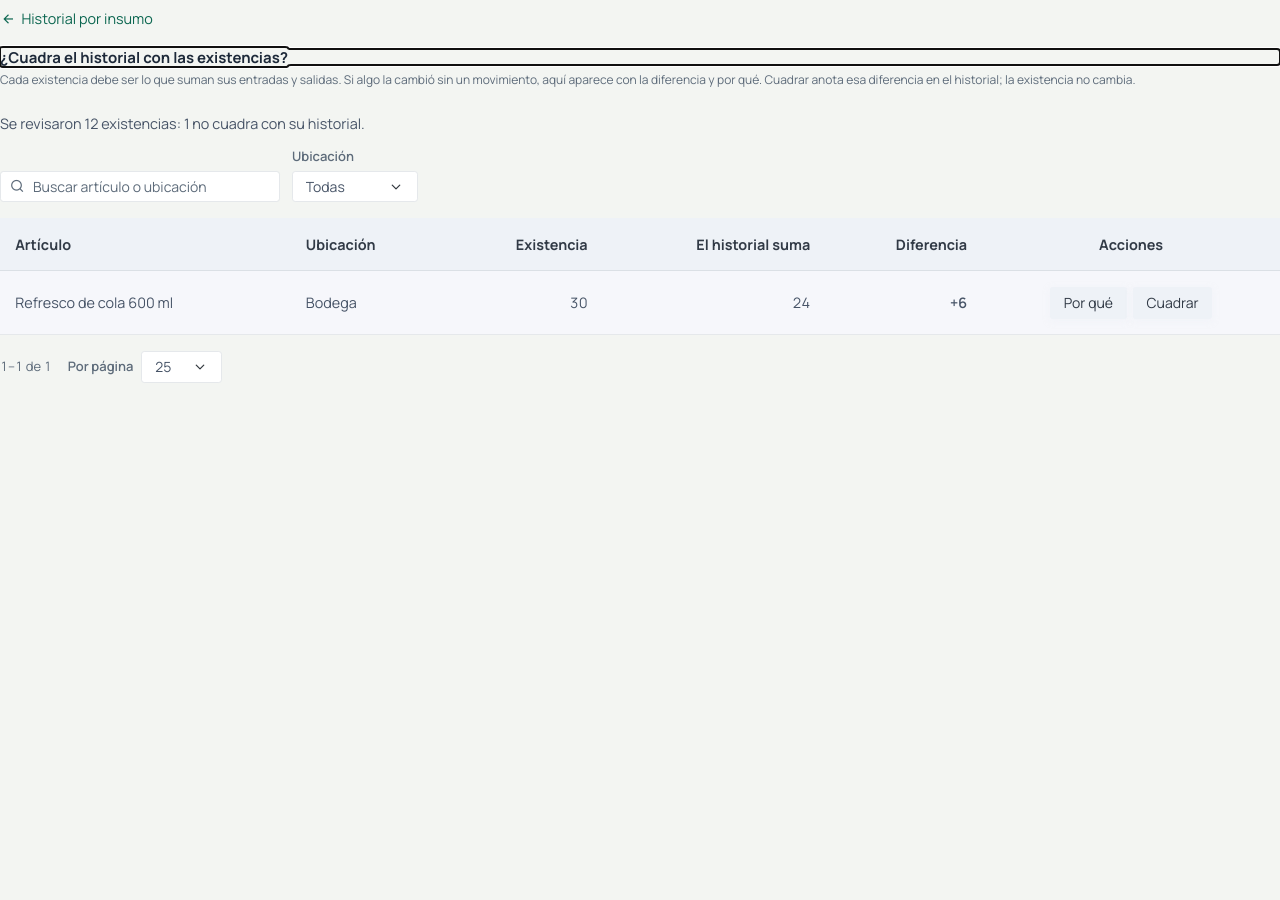
Test: LedgerReview › explains where a stock stops adding up, and says when what does not add up changed
Click the button with aria-label "Por qué no cuadra Refresco de cola 600 ml en Bodega" at (1088, 303), box [1050,287,1127,319]
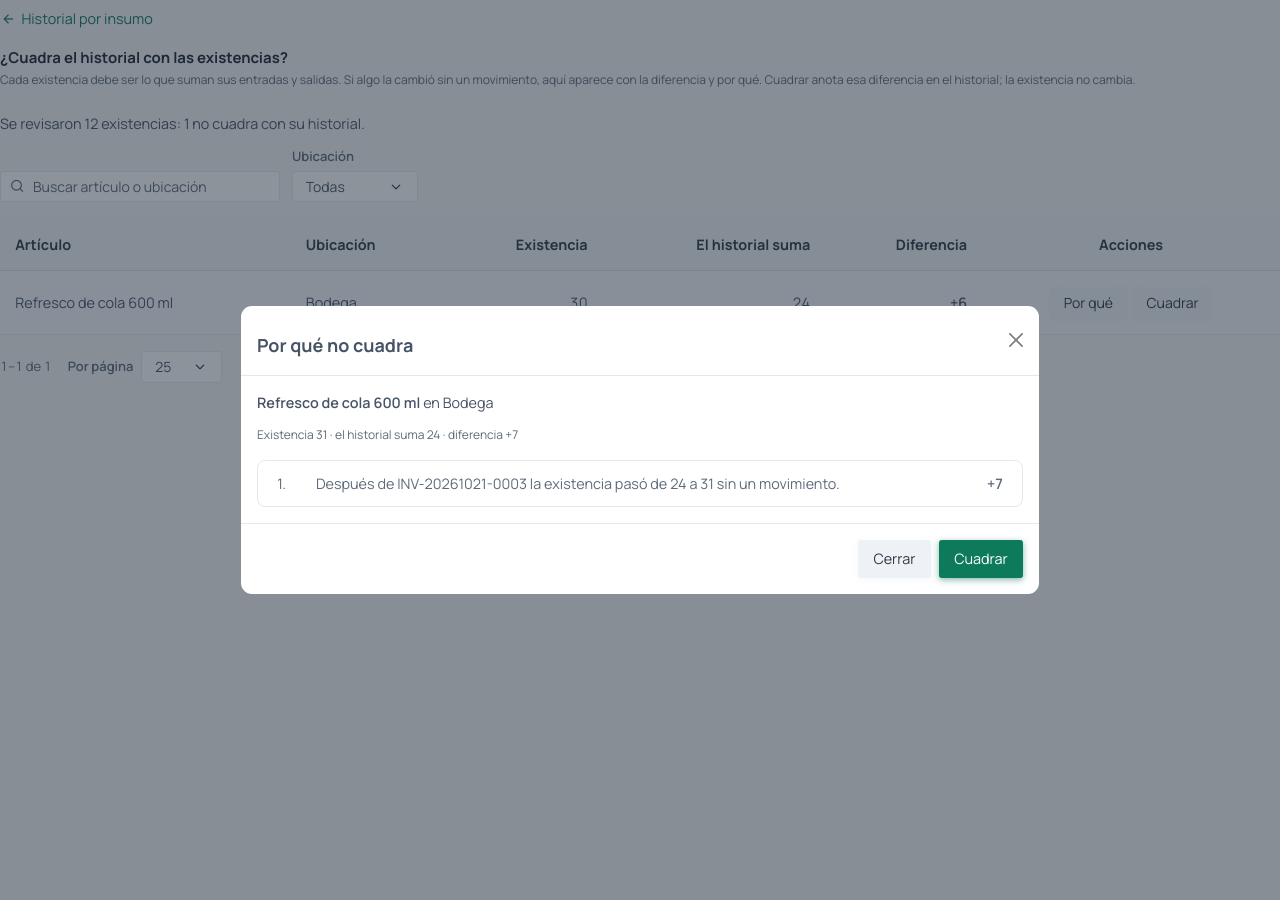
Expected: the text "Después de INV-20261021-0003 la existencia pasó de 24 a 31 sin un movimiento." is shown, [316,472,840,494]
Expected: the dialog "Por qué no cuadra" shows "Existencia 31 · el historial suma 24 · diferencia +7", [240,305,1040,595]
Click the button "Cuadrar" at (981, 559), box [939,540,1023,578]
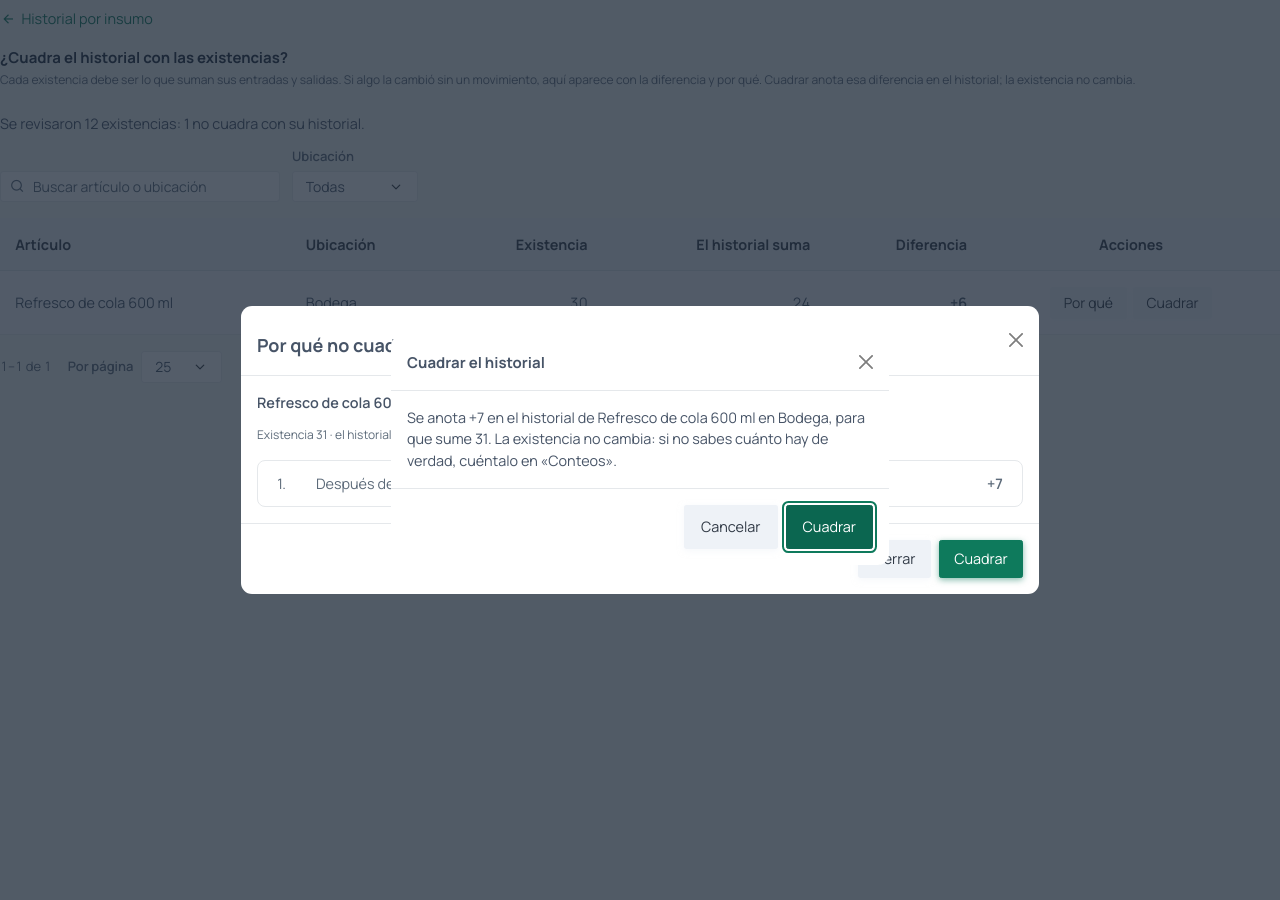
Expected: the dialog "Cuadrar el historial" shows "Se anota +7 en el historial de Refresco de cola 600 ml en Bodega, para que sume 31.", [407,408,865,470]
Click the button "Cuadrar" at (829, 527), box [786,505,873,549]
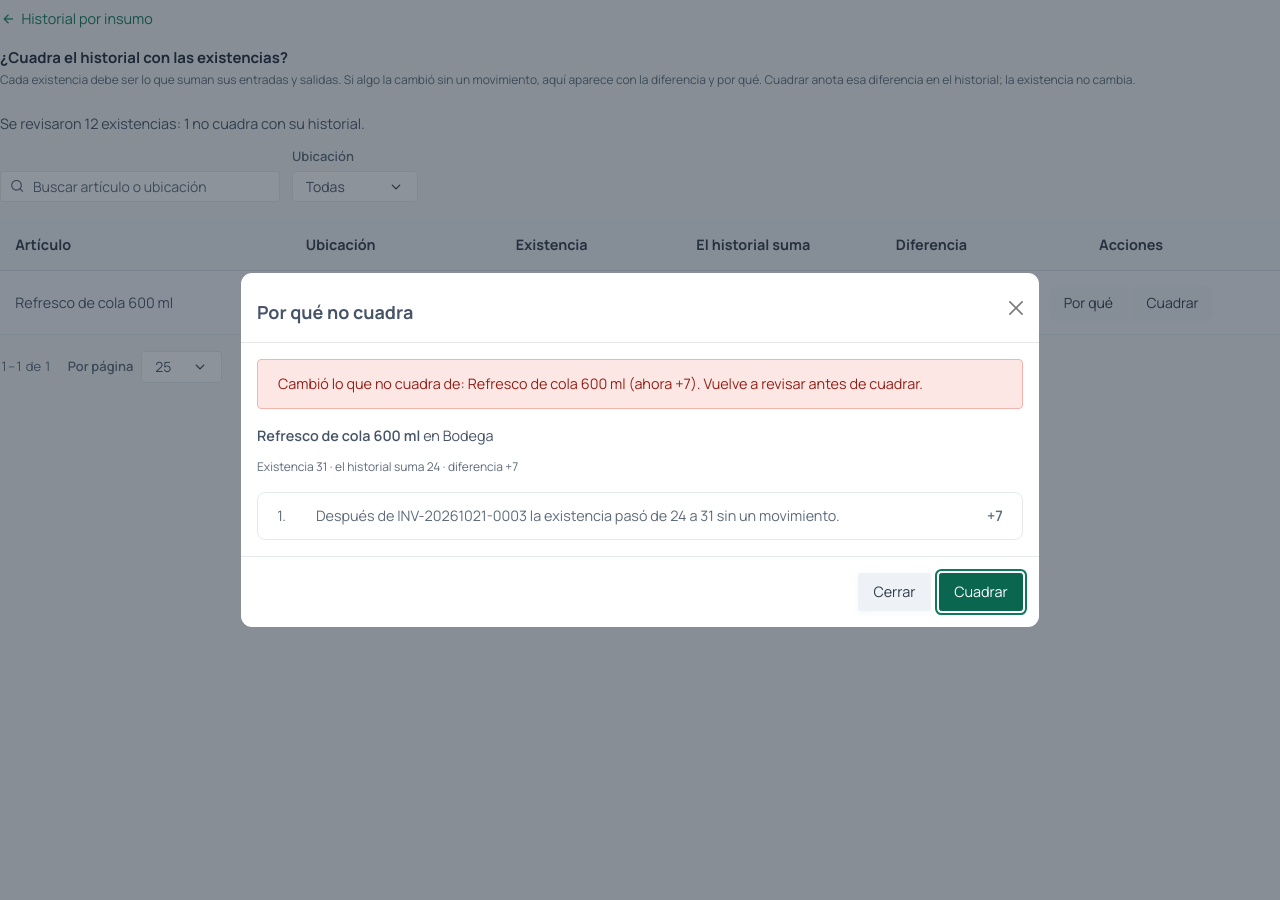
Expected: the text "Cambió lo que no cuadra de: Refresco de cola 600 ml (ahora +7). Vuelve a revisar antes de cuadrar." is shown, [278,374,923,393]
